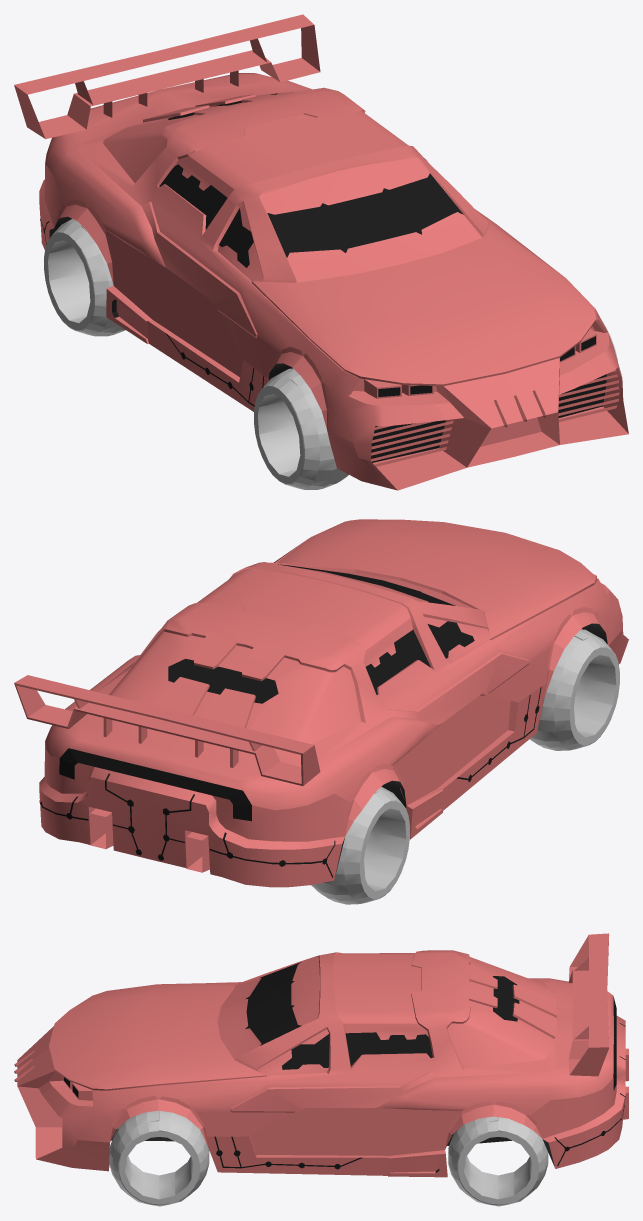
The model's file is supra.FBX.
3 views of the same model, one above another, from view 1: azimuth 30°, elevation 25°; view 2: azimuth 150°, elevation 25°; view 3: azimuth 270°, elevation 25° (orthographic). The views are drawn at different scales.
Visible parts, largest first — view 1: supra_lod0, G_Llanta020, G_Llanta019; view 2: supra_lod0, G_Llanta020, G_Llanta019; view 3: supra_lod0, G_Llanta018, G_Llanta017.
Boxes of the visible parts, <box> form: supra_lod0: <box>14,14,628,490</box>; G_Llanta020: <box>254,368,348,489</box>; G_Llanta019: <box>44,218,125,336</box>; supra_lod0: <box>14,519,628,887</box>; G_Llanta020: <box>530,629,619,750</box>; G_Llanta019: <box>311,786,409,904</box>; supra_lod0: <box>14,933,628,1177</box>; G_Llanta018: <box>109,1110,209,1206</box>; G_Llanta017: <box>448,1116,548,1206</box>.
Size of the model in its own units: 2.18 by 1.41 by 4.55.
